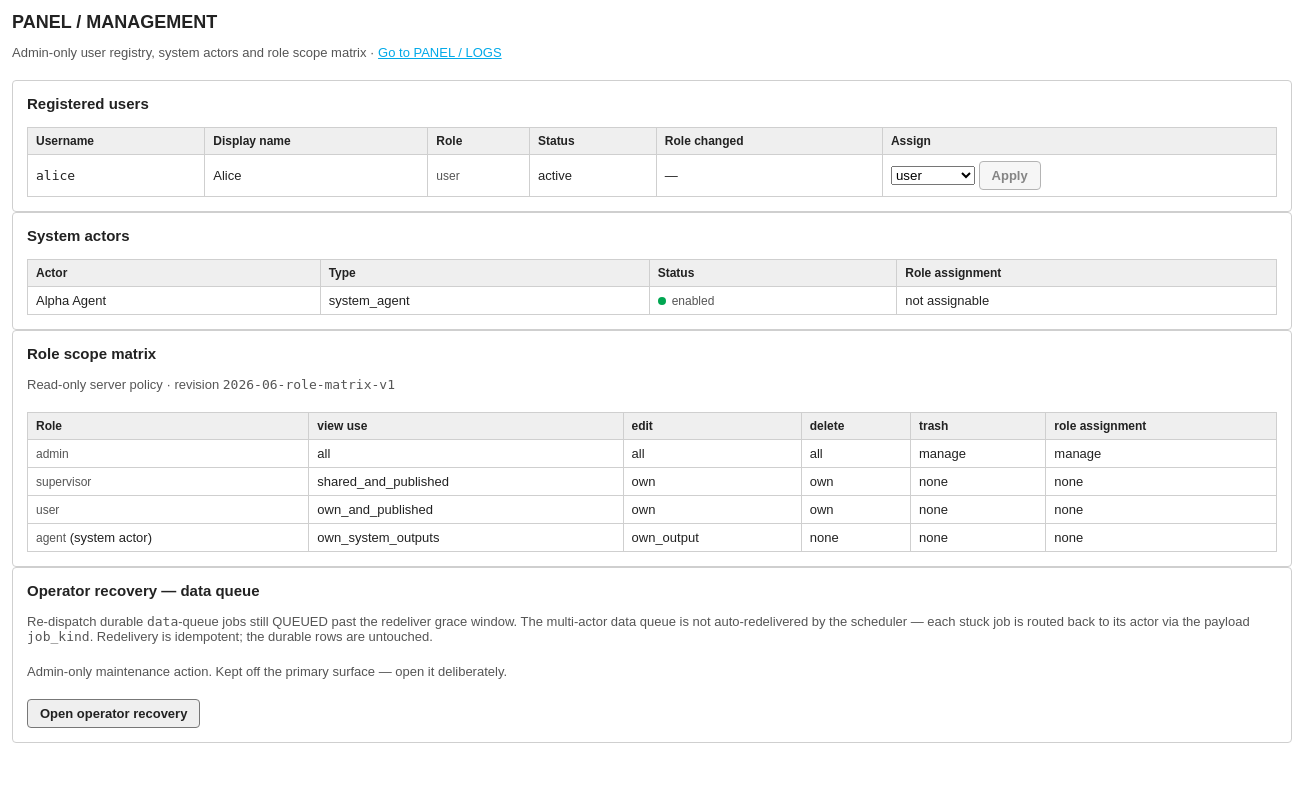
Panel / Management page › keeps operator recovery behind a disclosure, not a one-click lever
This screenshot has width=1292, height=812.
Expected: the text "alice" is shown, x1=36 y1=168 x2=75 y2=183
Expected: the button "Redeliver stuck jobs" is not shown
Click the button "Open operator recovery" at (114, 714), box x1=27 y1=699 x2=200 y2=728
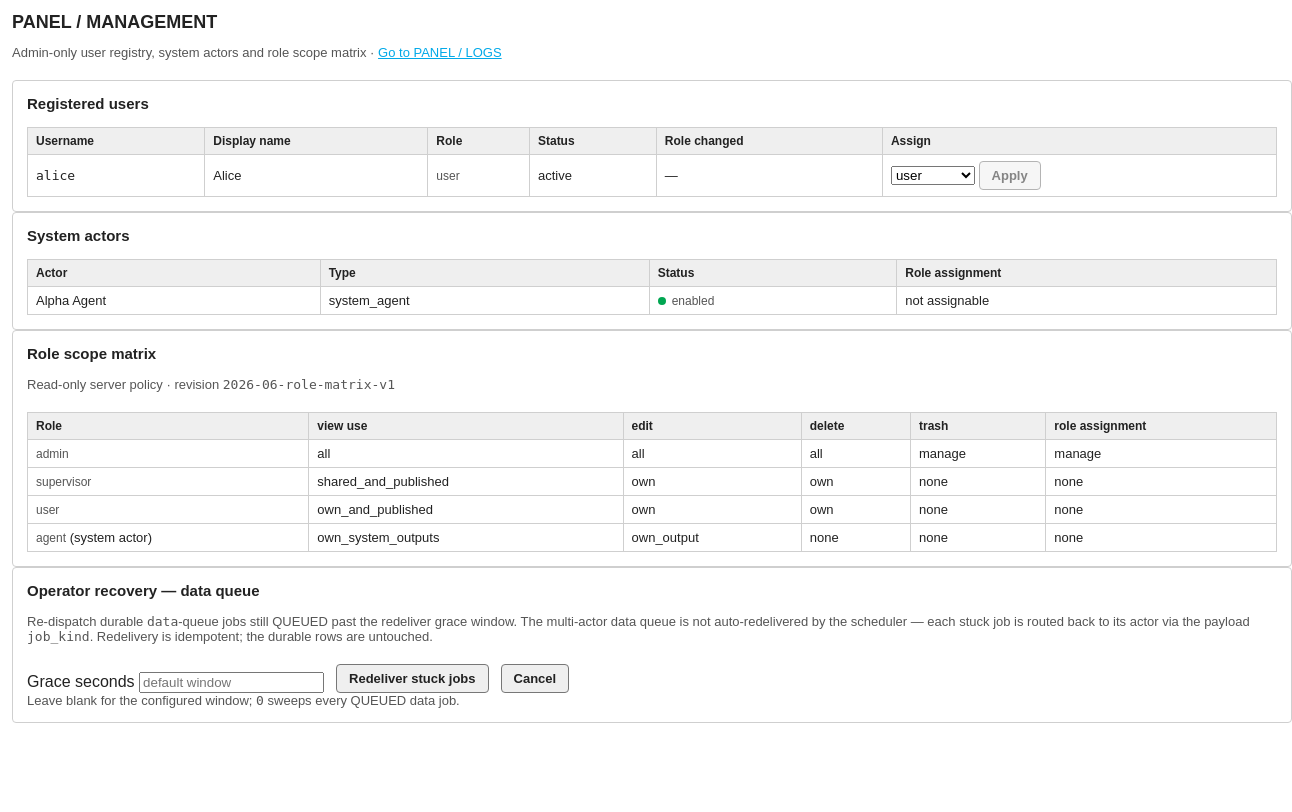
Result: the button "Redeliver stuck jobs" is shown at x1=336 y1=664 x2=489 y2=693
